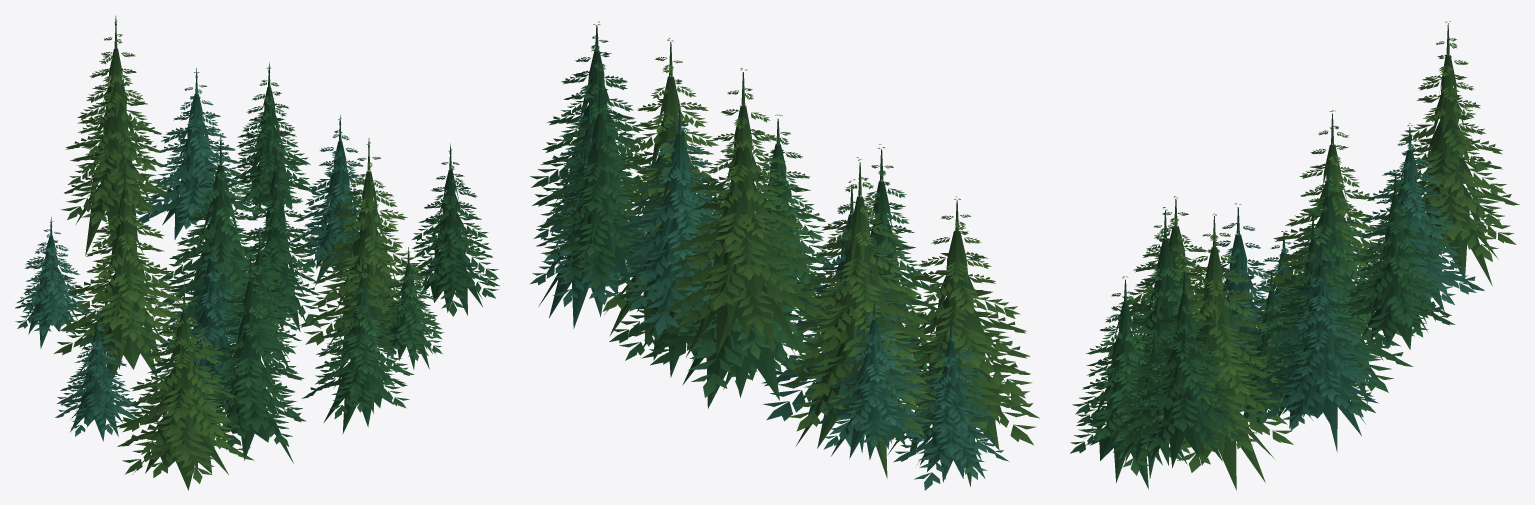
3 views of the same model, side by side, from view 1: azimuth 30°, elevation 25°; view 2: azimuth 150°, elevation 25°; view 3: azimuth 270°, elevation 25° (orthographic). The views are drawn at different scales.
Parts seen in each view (by area): view 1: pn_7; view 2: pn_7; view 3: pn_7.
Part boxes in pixels (x1,y1,x2,y2): pn_7: (15, 15, 499, 490); pn_7: (530, 21, 1039, 490); pn_7: (1070, 21, 1519, 490).
Size of the model in its own units: 30.87 by 28.54 by 26.31.
1 material, 1 textured.
